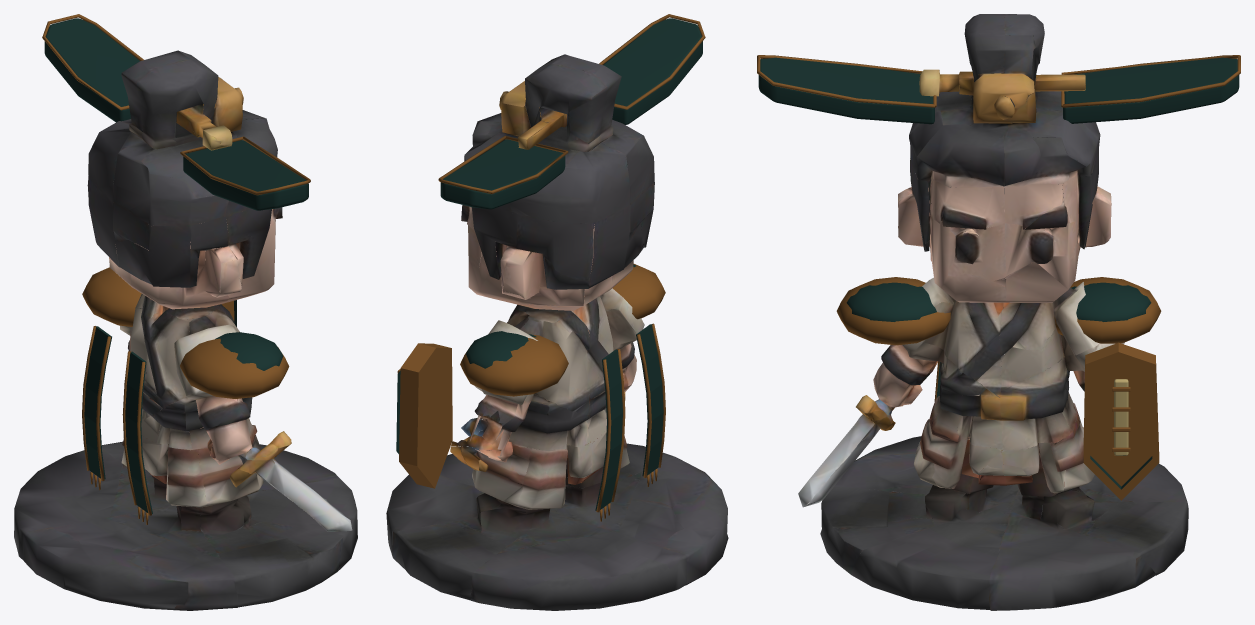
Rendered from advisor.glb.
3 views of the same model, side by side, from view 1: azimuth 30°, elevation 25°; view 2: azimuth 150°, elevation 25°; view 3: azimuth 270°, elevation 25° (orthographic). The views are drawn at different scales.
Visible parts, largest first — view 1: advisor-readable-standard; view 2: advisor-readable-standard; view 3: advisor-readable-standard.
Boxes of the visible parts, bbox=[...] form: advisor-readable-standard: bbox=[14, 14, 357, 610]; advisor-readable-standard: bbox=[386, 14, 728, 610]; advisor-readable-standard: bbox=[757, 14, 1240, 610].
Bounding box in the file's own units: 0.6537 × 1 × 0.8698.
Materials: 1 (1 with a texture image).
